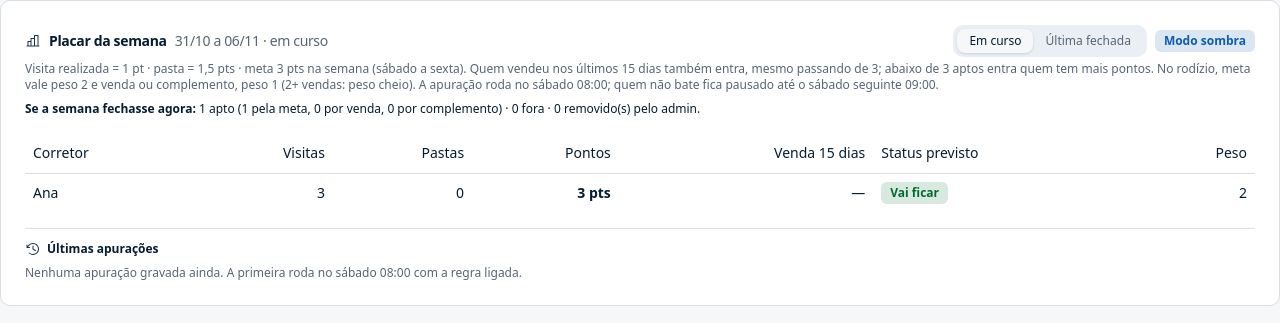
Test: Placar da semana (Central → Filas → SDR) › alterna entre a semana em curso e a última fechada (a que o sábado aplica)
Check: the text "31/10 a 06/11 · em curso" is shown, box [175,31,328,51]
Check: the text "Se a semana fechasse agora:" is shown, box [25,100,196,117]
Press the mouse on the tab "Última fechada": (1088, 41) [1034,29,1143,53]
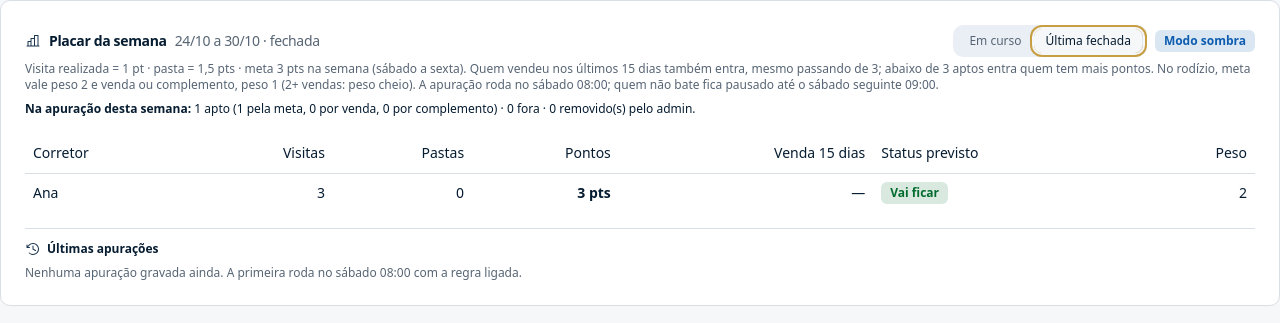
Check: the text "24/10 a 30/10 · fechada" is shown, box [175,31,320,51]
Check: the text "Na apuração desta semana:" is shown, box [25,100,191,117]
